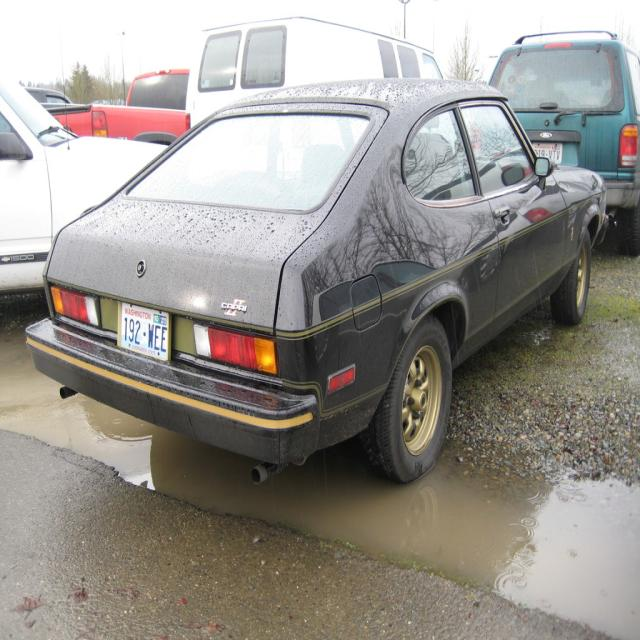car: (19, 75, 607, 484)
